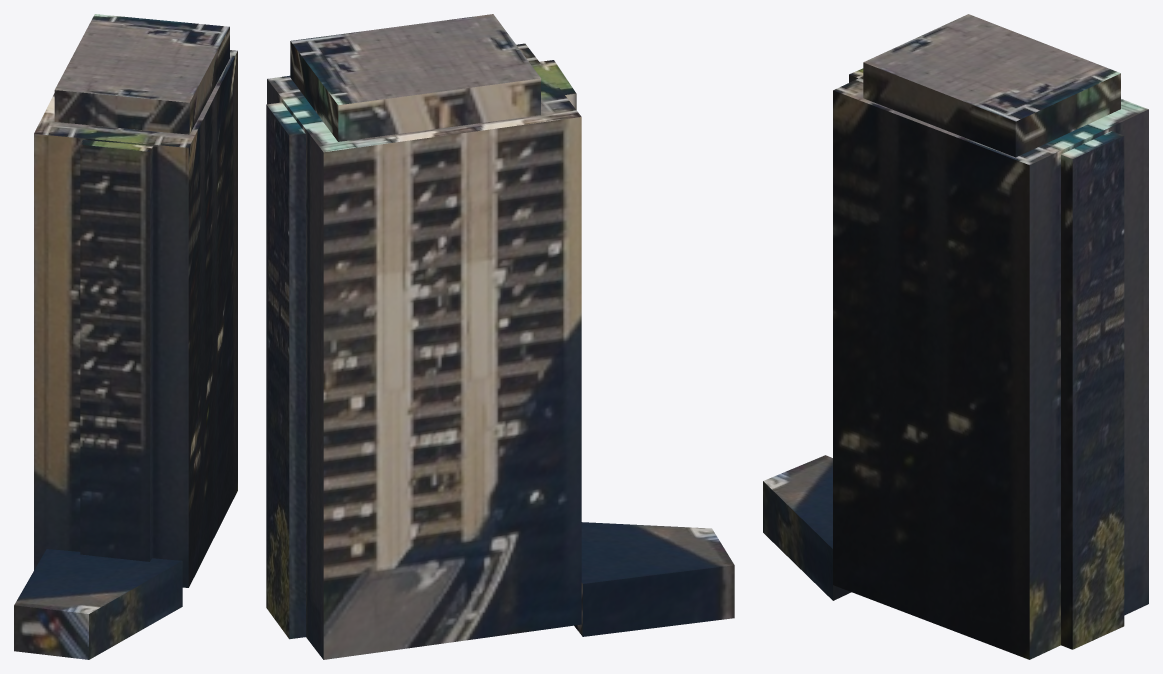
File: torre_s14_b.glb
3 renders of one model, left to right at view 1: azimuth 30°, elevation 25°; view 2: azimuth 150°, elevation 25°; view 3: azimuth 270°, elevation 25°, orthographic. The views are drawn at different scales.
Parts seen in each view (by area): view 1: torre_s14_b; view 2: torre_s14_b; view 3: torre_s14_b.
Part boxes in pixels (x1,y1,x2,y2): torre_s14_b: (14, 14, 237, 659); torre_s14_b: (266, 14, 734, 659); torre_s14_b: (763, 14, 1148, 659).
Bounding box in the file's own units: 34.59 × 51.41 × 32.68.
Materials: 2 (2 with a texture image).
